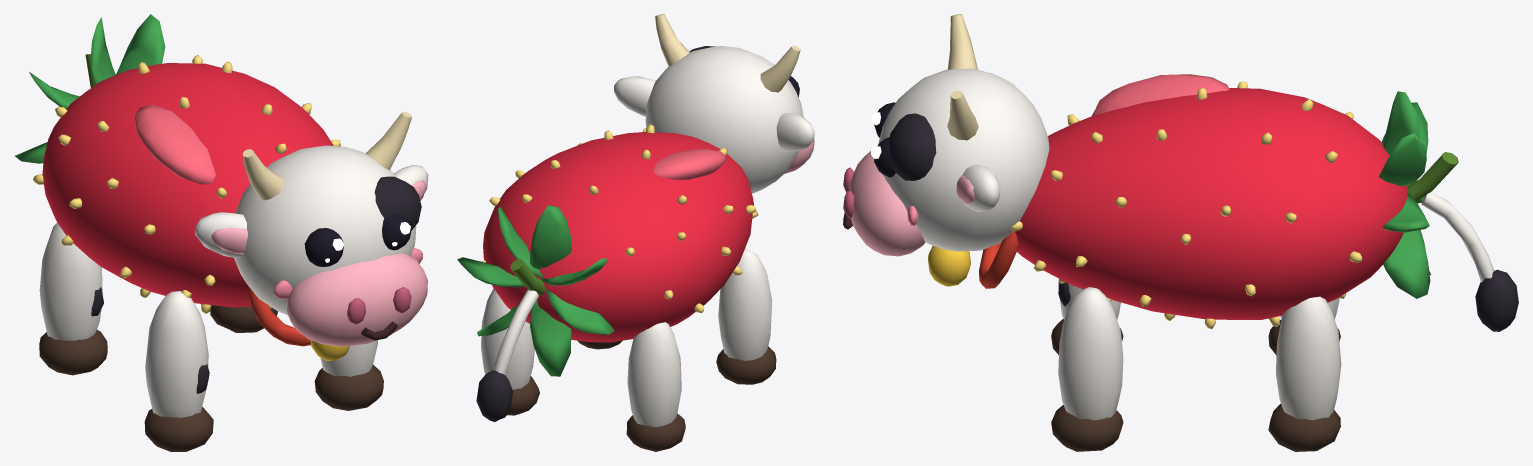
The model's file is pilot_ku_jordbaer_lav.glb.
3 views of the same model, side by side, from view 1: azimuth 30°, elevation 25°; view 2: azimuth 150°, elevation 25°; view 3: azimuth 270°, elevation 25° (orthographic). The views are drawn at different scales.
Parts seen in each view (by area): view 1: kropp, hode, bein_vf, bein_vb, bein_hf, bein_hb; view 2: kropp, hode, bein_vb, bein_vf, bein_hb, hale; view 3: kropp, hode, bein_hf, bein_hb, hale, bein_vf.
Boxes of the visible parts, <box> form: kropp: <box>15,14,340,313</box>; hode: <box>195,111,428,360</box>; bein_vf: <box>144,291,213,451</box>; bein_vb: <box>39,222,107,375</box>; bein_hf: <box>314,340,383,410</box>; bein_hb: <box>210,305,277,332</box>; kropp: <box>457,124,758,376</box>; hode: <box>614,14,814,205</box>; bein_vb: <box>626,322,685,451</box>; bein_vf: <box>716,248,776,384</box>; bein_hb: <box>481,288,539,415</box>; hale: <box>476,289,538,421</box>; kropp: <box>999,74,1458,329</box>; hode: <box>843,14,1049,288</box>; bein_hf: <box>1051,287,1123,451</box>; bein_hb: <box>1268,296,1341,451</box>; hale: <box>1421,192,1518,331</box>; bein_vf: <box>1051,278,1123,354</box>.
Bounding box in the file's own units: 0.8479 × 1.07 × 1.86.
